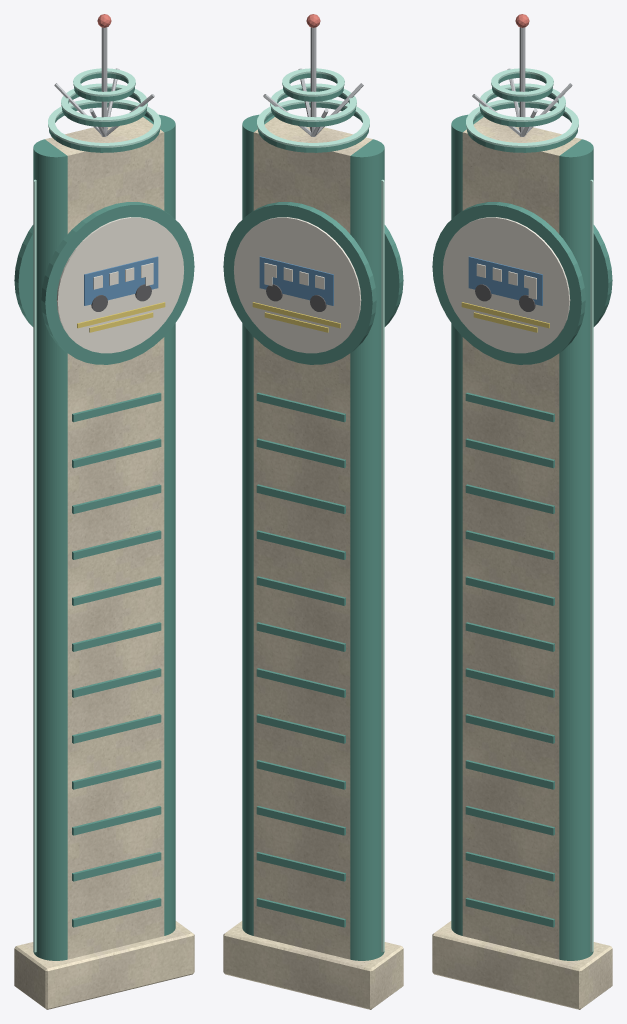
File: pylon.glb
3 renders of one model, left to right at view 1: azimuth 30°, elevation 25°; view 2: azimuth 150°, elevation 25°; view 3: azimuth 330°, elevation 25°, orthographic.
Visible parts, largest first — view 1: pylon_render, pylon_trim_g, pylon_cream, pylon_neon, pylon_sign_b, pylon_steel, pylon_sign_y, pylon_dark; view 2: pylon_render, pylon_trim_g, pylon_cream, pylon_neon, pylon_sign_b, pylon_steel, pylon_sign_y, pylon_dark; view 3: pylon_render, pylon_trim_g, pylon_cream, pylon_neon, pylon_sign_b, pylon_steel, pylon_sign_y, pylon_dark.
Boxes of the visible parts, x1,y1,x2,y2 form: pylon_render: (14,117,194,1009); pylon_trim_g: (14,73,194,960); pylon_cream: (56,217,183,353); pylon_neon: (33,68,160,952); pylon_sign_b: (84,256,158,305); pylon_steel: (54,27,154,136); pylon_sign_y: (77,302,165,332); pylon_dark: (91,284,151,311); pylon_render: (223,117,403,1009); pylon_trim_g: (223,73,403,960); pylon_cream: (234,217,361,353); pylon_neon: (257,68,384,952); pylon_sign_b: (259,256,333,305); pylon_steel: (263,27,363,136); pylon_sign_y: (252,302,340,332); pylon_dark: (266,284,326,311); pylon_render: (432,117,612,1009); pylon_trim_g: (432,73,612,960); pylon_cream: (443,217,570,353); pylon_neon: (466,68,593,952); pylon_sign_b: (468,256,542,305); pylon_steel: (472,27,572,136); pylon_sign_y: (461,302,549,332); pylon_dark: (475,284,535,311).
Size of the model in its own units: 1.7 by 10.52 by 1.12.
Materials: 9 (1 with a texture image).
